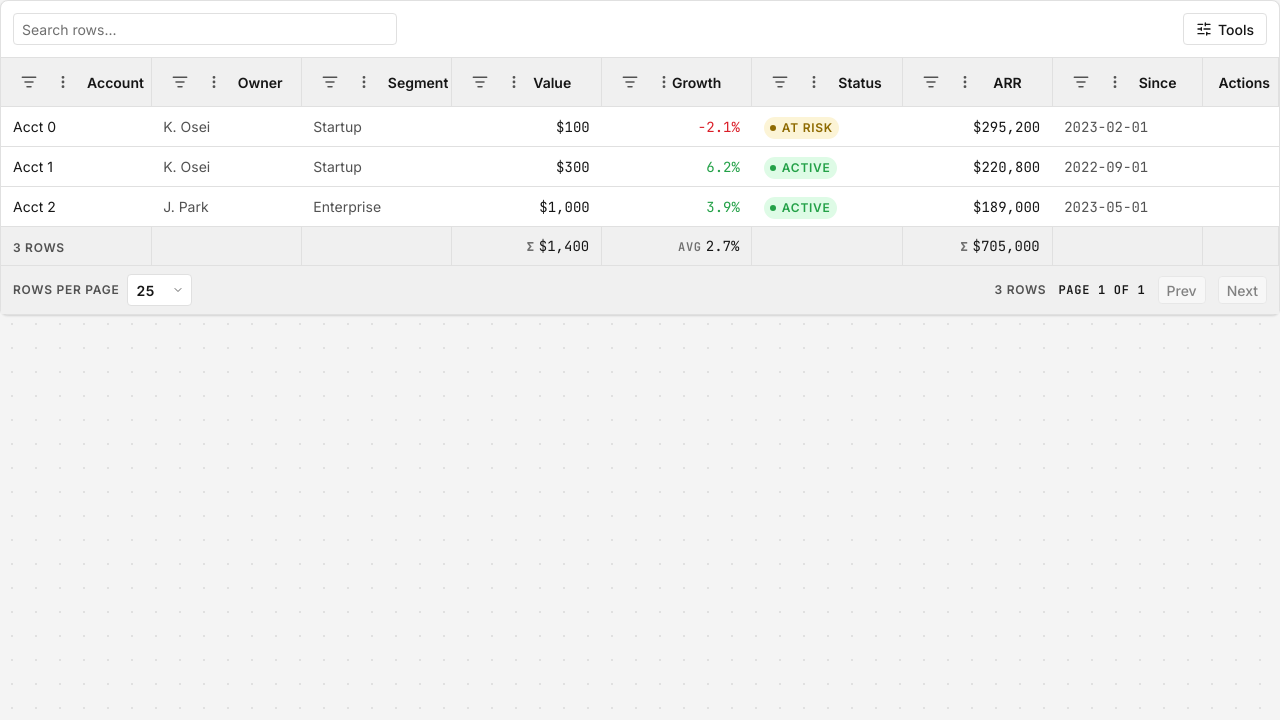
Test: DataGrid grouping & aggregation › column menu groups rows, renders group rows with counts and inline aggregates
Click the button named "Segment column menu" at (364, 82), box [348,66,380,98]
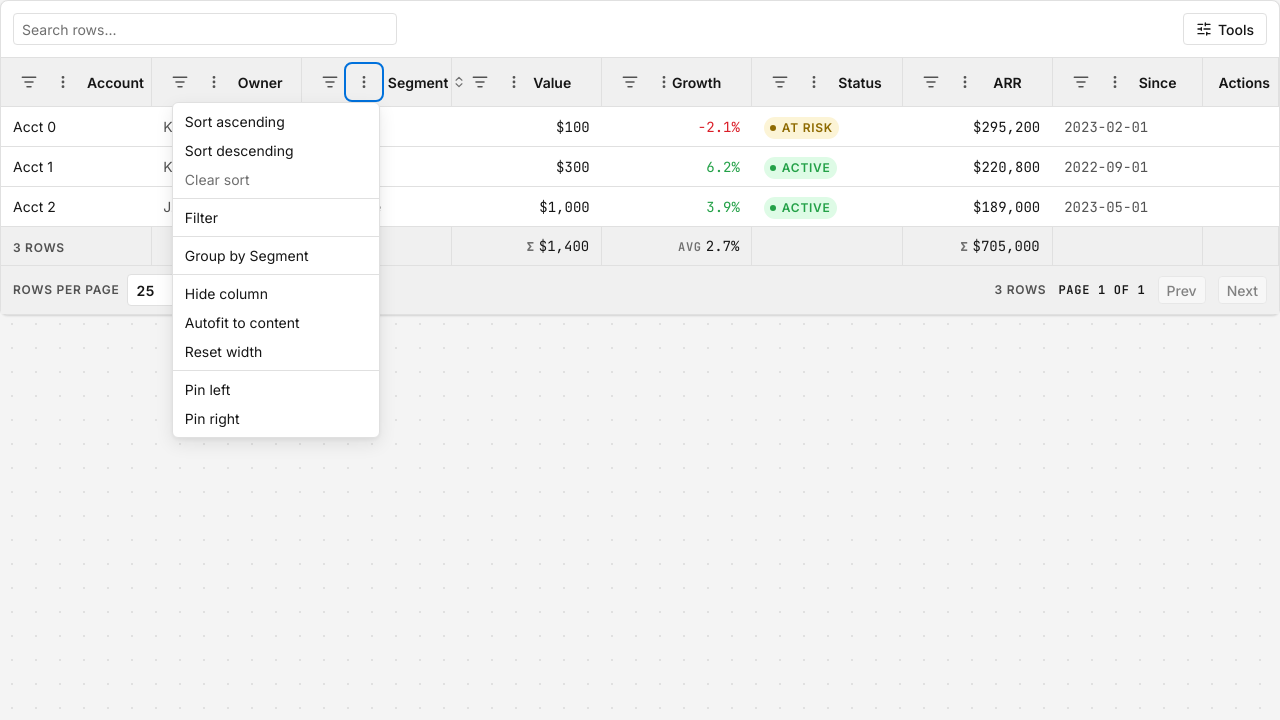
Click the menu item "Group by Segment" at (276, 256), box [173,241,379,270]
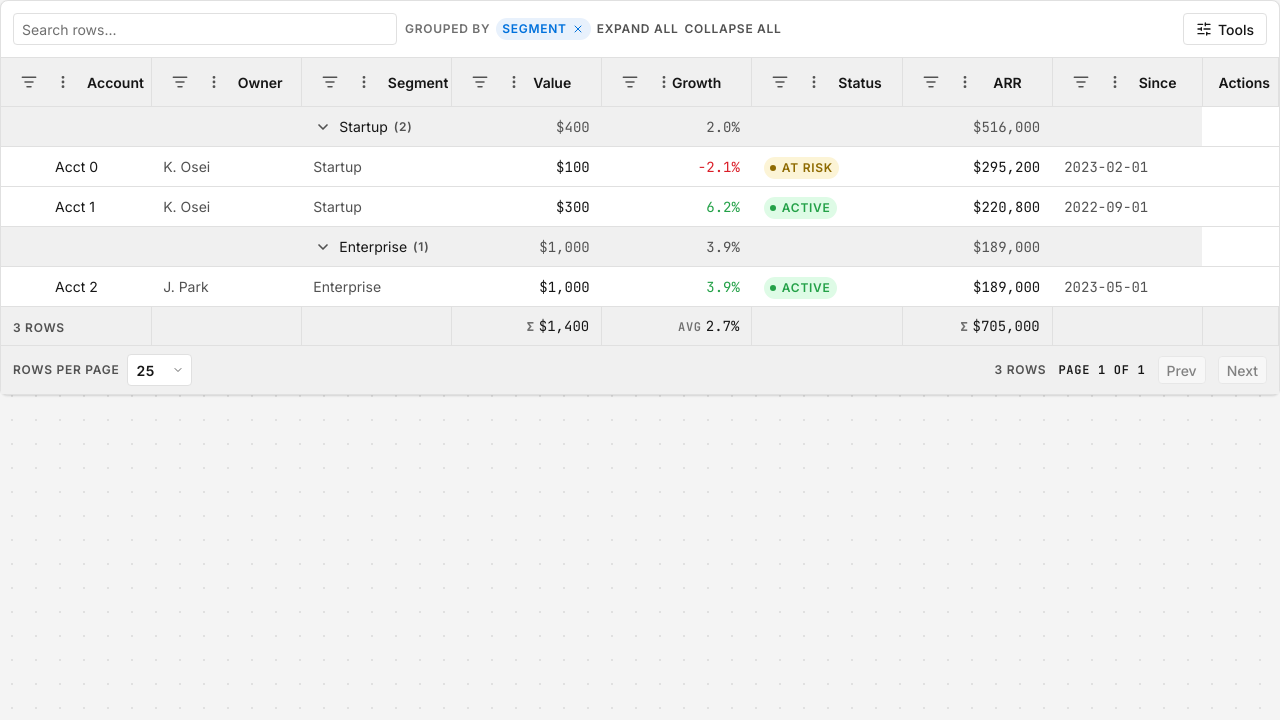
Expected: the row "Startup (2) $400 2.0% $516,000" is shown, [1,106,1278,146]
Expected: the text "Startup" in the row of "$400" is shown, [339,118,388,135]
Expected: the text "(2)" is shown, [394,118,412,136]
